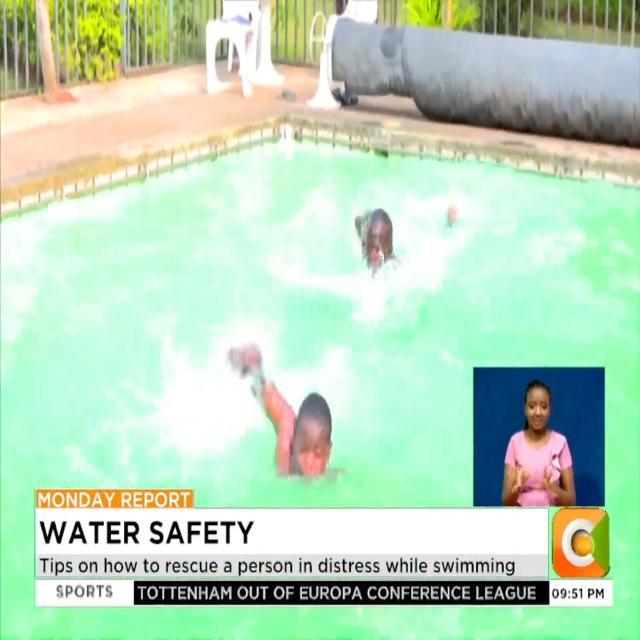swimming: (219, 294, 352, 506), (340, 198, 433, 314)
